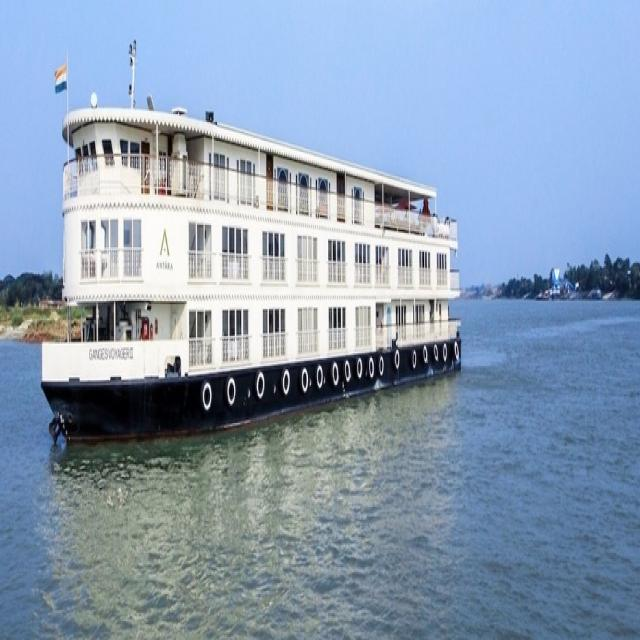passenger ship: (22, 40, 477, 457)
